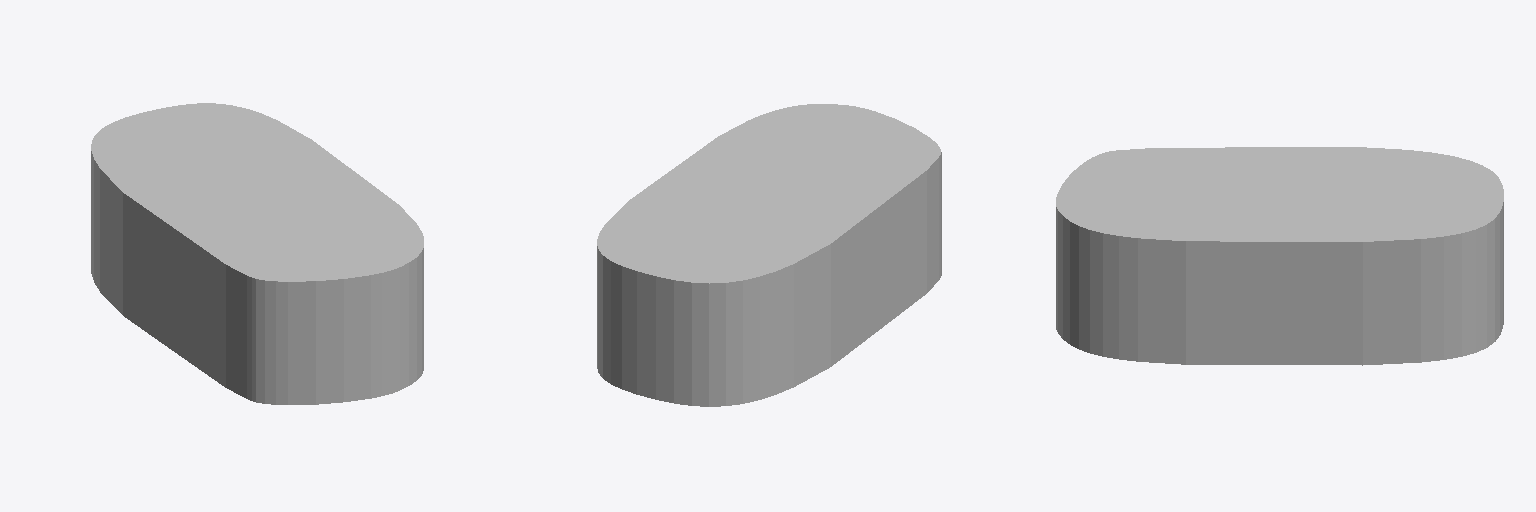
The model's file is mesa-obs-3.obj.
3 renders of one model, left to right at view 1: azimuth 30°, elevation 25°; view 2: azimuth 150°, elevation 25°; view 3: azimuth 270°, elevation 25°, orthographic.
Parts seen in each view (by area): view 1: mesa-obs-3; view 2: mesa-obs-3; view 3: mesa-obs-3.
Part boxes in pixels (x1,y1,x2,y2): mesa-obs-3: (91, 103, 423, 404); mesa-obs-3: (597, 104, 941, 406); mesa-obs-3: (1056, 147, 1503, 365).
Size of the model in its own units: 0.0314 by 0.0189 by 0.0622.